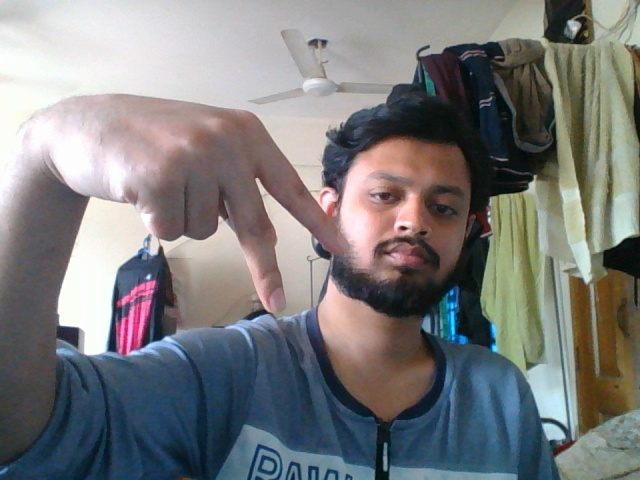pa: (53, 92, 355, 320)
